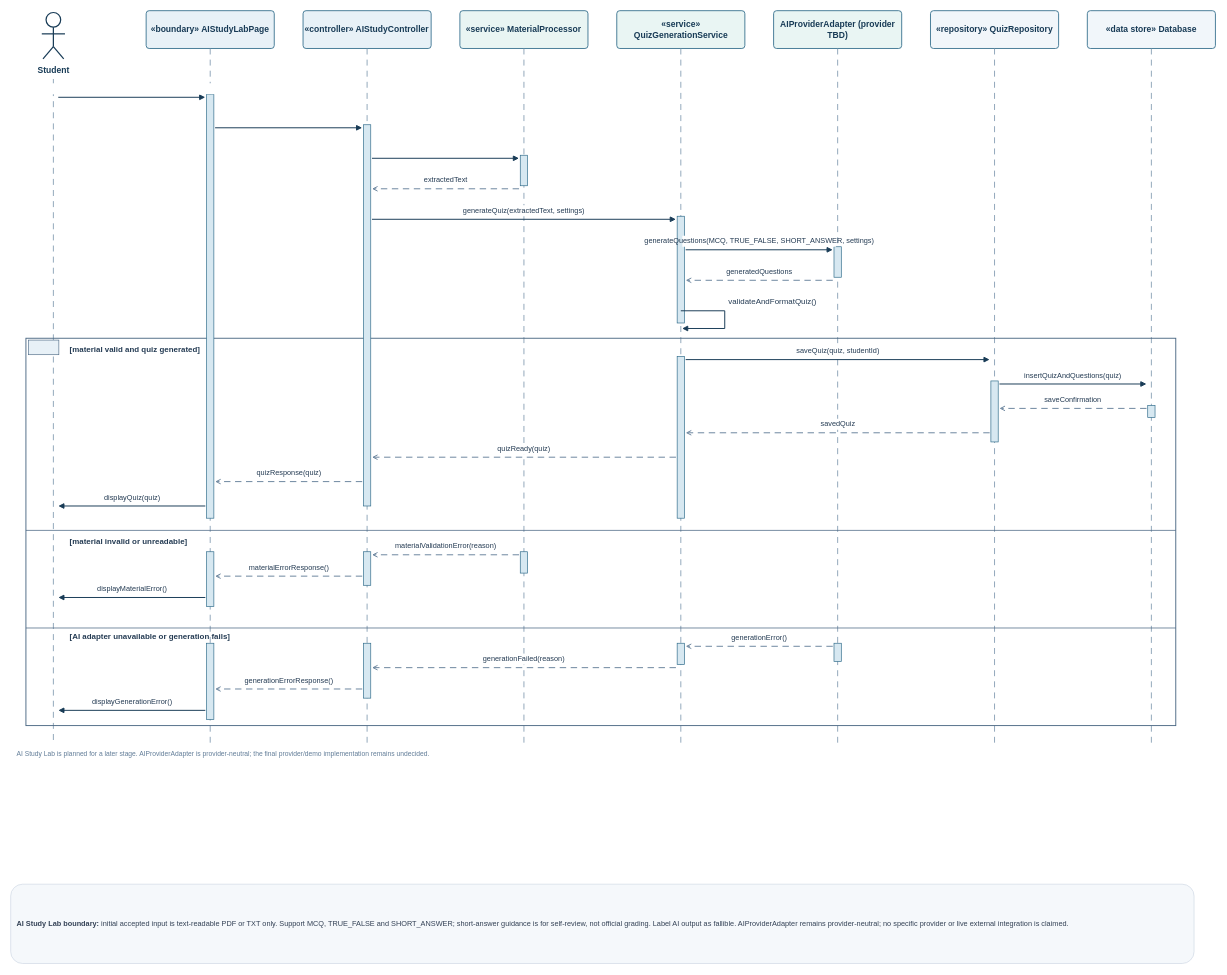
Image size: 1227x975. Some labels were removed from this diagram. Each missing label, with the centre of its shape:
"alt" goes at point (43, 347).
"generateQuiz(material, settings)" goes at point (288, 118).
"provideMaterialAndQuizSettings(file, settings)" goes at point (131, 88).
"validatePDForTXTAndExtractText(material)" goes at point (445, 149).
